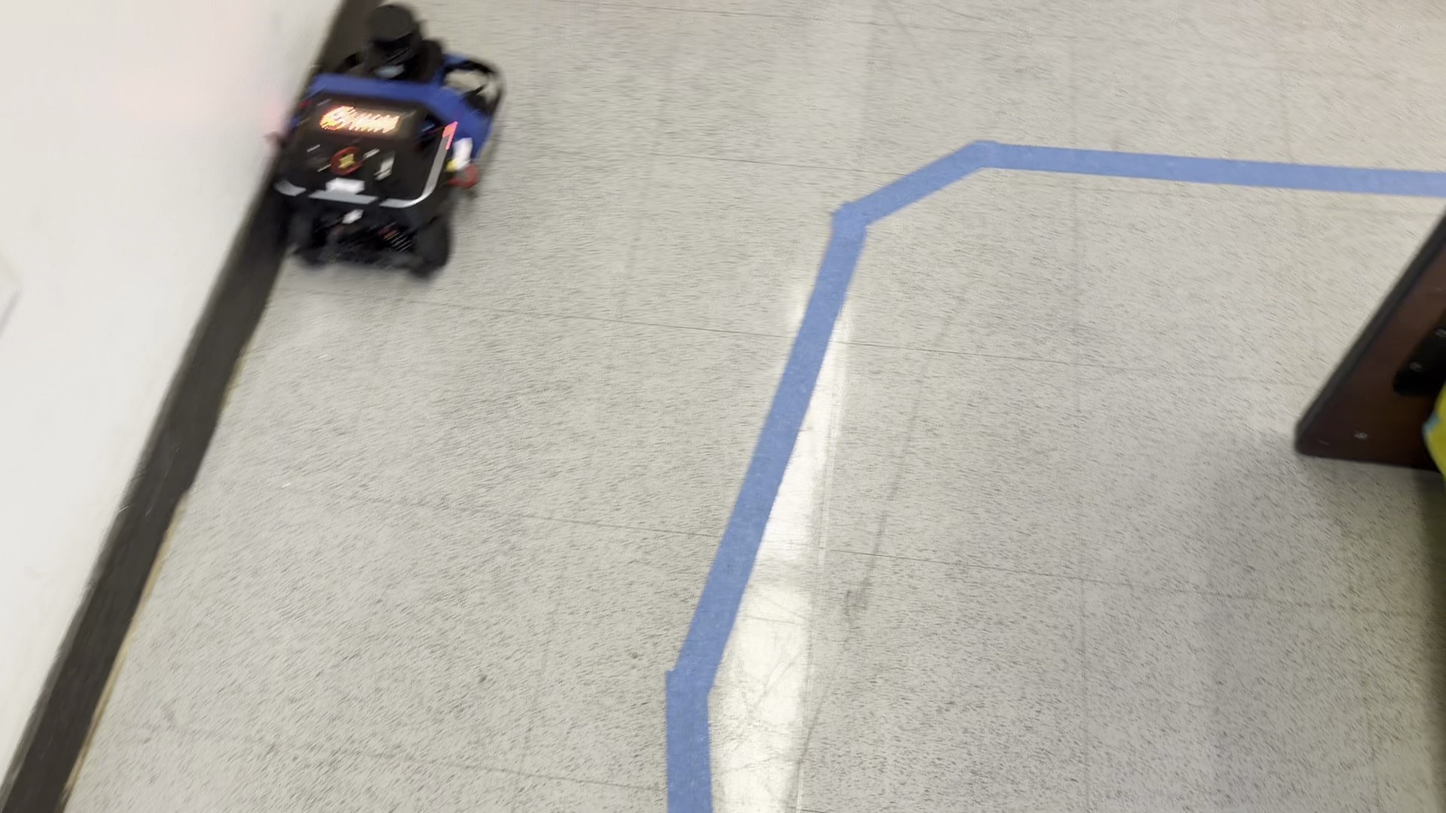racecar: (267, 2, 502, 279)
